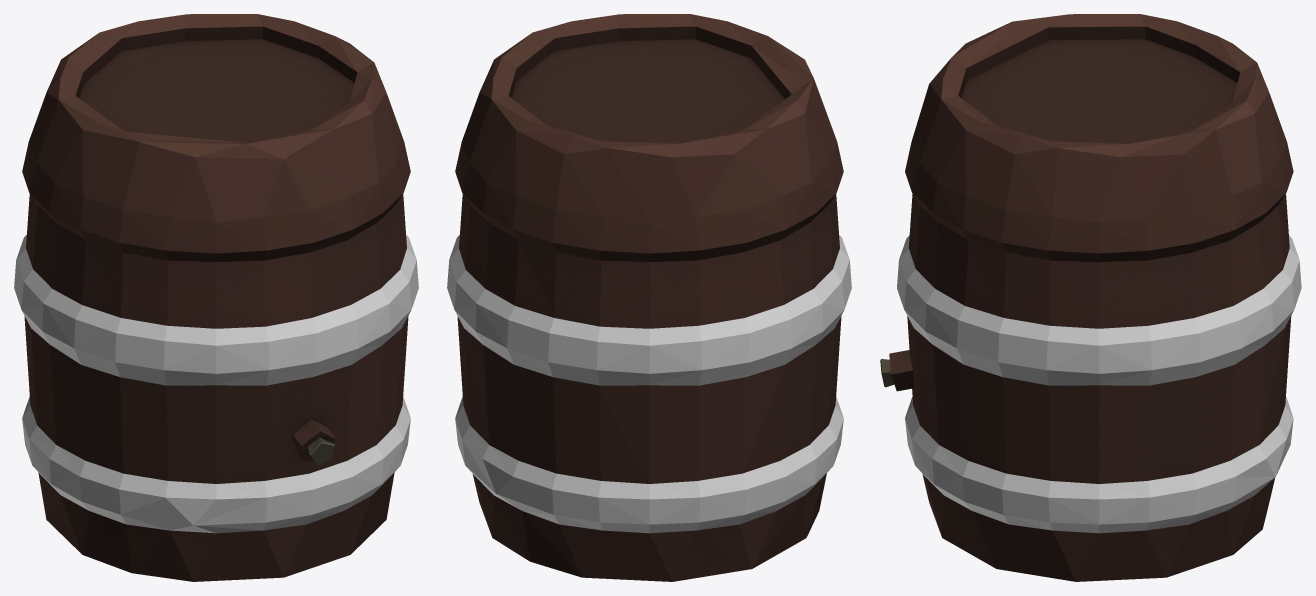
The model's file is Barille_en_bois_type_01.fbx.
3 renders of one model, left to right at view 1: azimuth 30°, elevation 25°; view 2: azimuth 150°, elevation 25°; view 3: azimuth 270°, elevation 25°, orthographic.
Visible parts, largest first — view 1: Cylinder.003; view 2: Cylinder.003; view 3: Cylinder.003.
Part boxes in pixels (x1,y1,x2,y2): Cylinder.003: [14, 14, 418, 581]; Cylinder.003: [447, 14, 851, 581]; Cylinder.003: [880, 14, 1301, 581].
Size of the model in its own units: 403 by 478 by 422.
